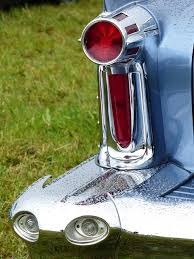car: (4, 145, 191, 257)
